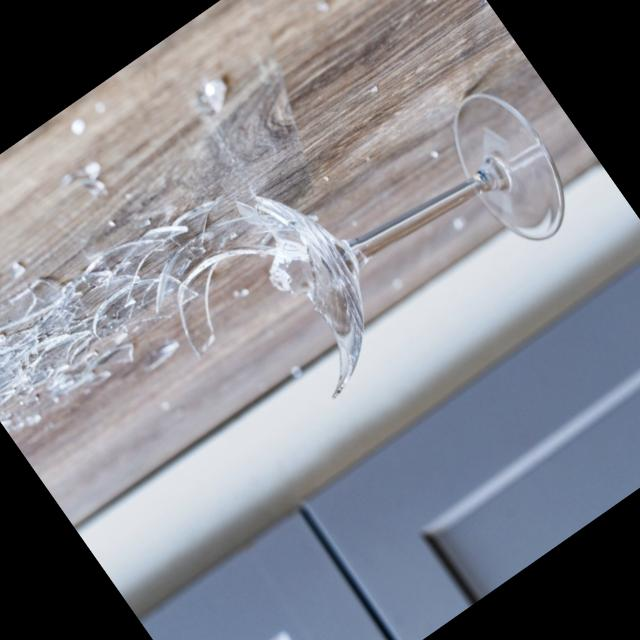PecahanKaca: (0, 0, 597, 561), (136, 35, 598, 451)
